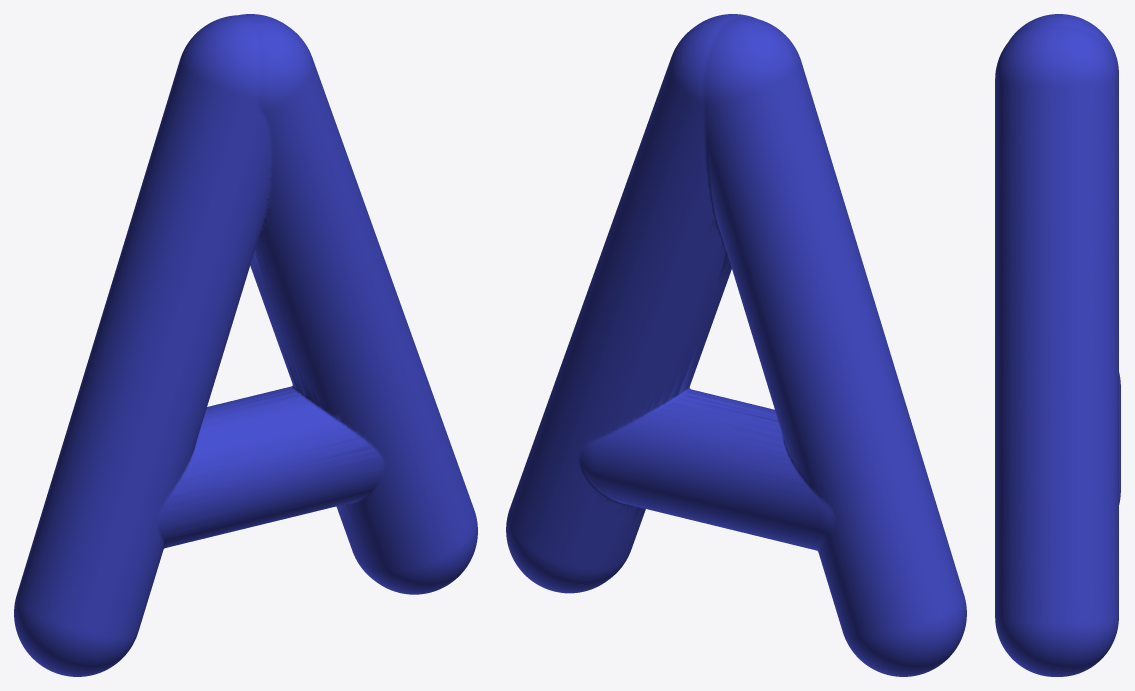
File: letter-a.glb
3 views of the same model, side by side, from view 1: azimuth 30°, elevation 25°; view 2: azimuth 150°, elevation 25°; view 3: azimuth 270°, elevation 25° (orthographic). The views are drawn at different scales.
Visible parts, largest first — view 1: node_id3; view 2: node_id3; view 3: node_id3.
Boxes of the visible parts, x1,y1,x2,y2 form: node_id3: (14, 14, 477, 676); node_id3: (506, 14, 966, 676); node_id3: (995, 14, 1120, 676).
Size of the model in its own units: 0.3907 by 0.512 by 0.1015.
1 material, 1 textured.
